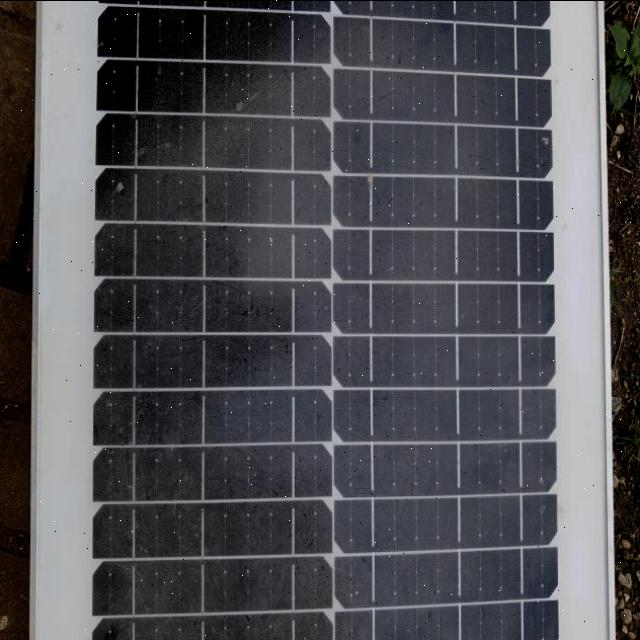Surface Contaminant: (77, 6, 573, 640)
